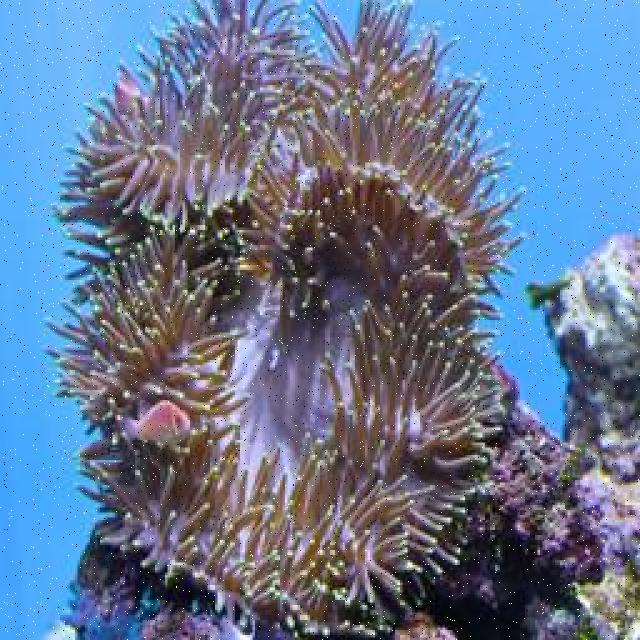reefs: (41, 0, 531, 638)
